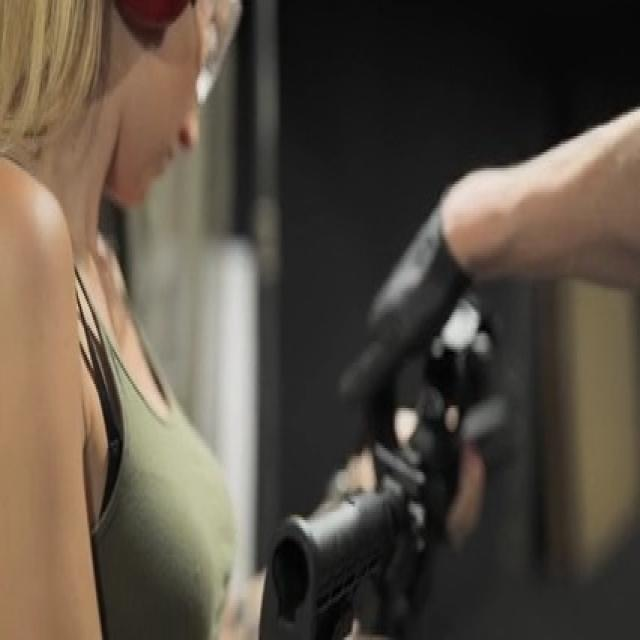Gun_Holder: (208, 264, 617, 632)
Person: (0, 0, 290, 638)
